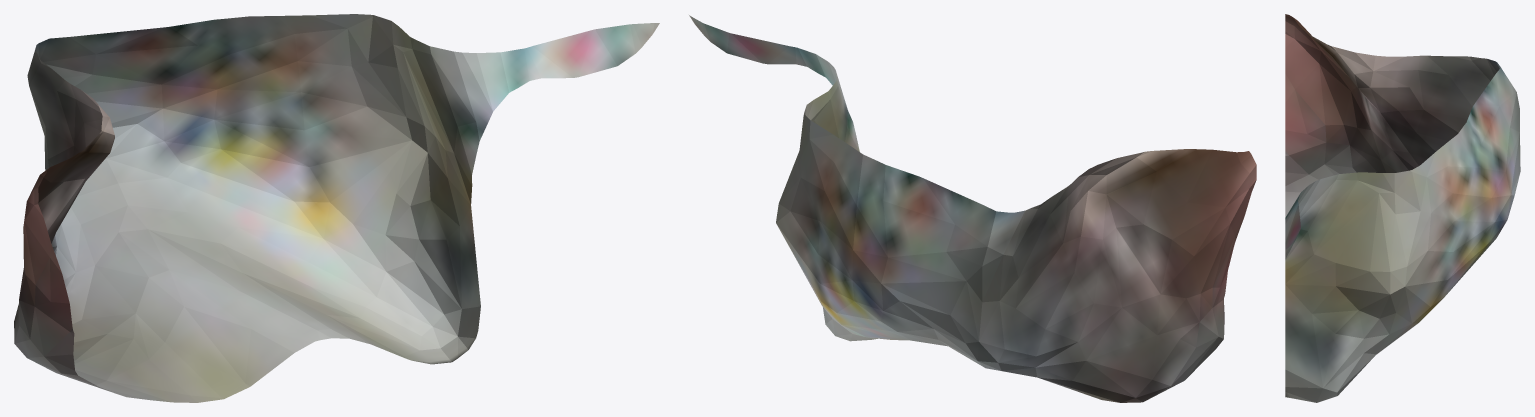
3 views of the same model, side by side, from view 1: azimuth 30°, elevation 25°; view 2: azimuth 150°, elevation 25°; view 3: azimuth 270°, elevation 25° (orthographic). The views are drawn at different scales.
Visible parts, largest first — view 1: 091_W_Aya_100K_01; view 2: 091_W_Aya_100K_01; view 3: 091_W_Aya_100K_01.
Part boxes in pixels (x1,y1,x2,y2): 091_W_Aya_100K_01: (14, 14, 659, 402); 091_W_Aya_100K_01: (689, 15, 1256, 402); 091_W_Aya_100K_01: (1285, 14, 1520, 402).
Size of the model in its own units: 63.17 by 28.27 by 26.28.
Materials: 1 (1 with a texture image).
